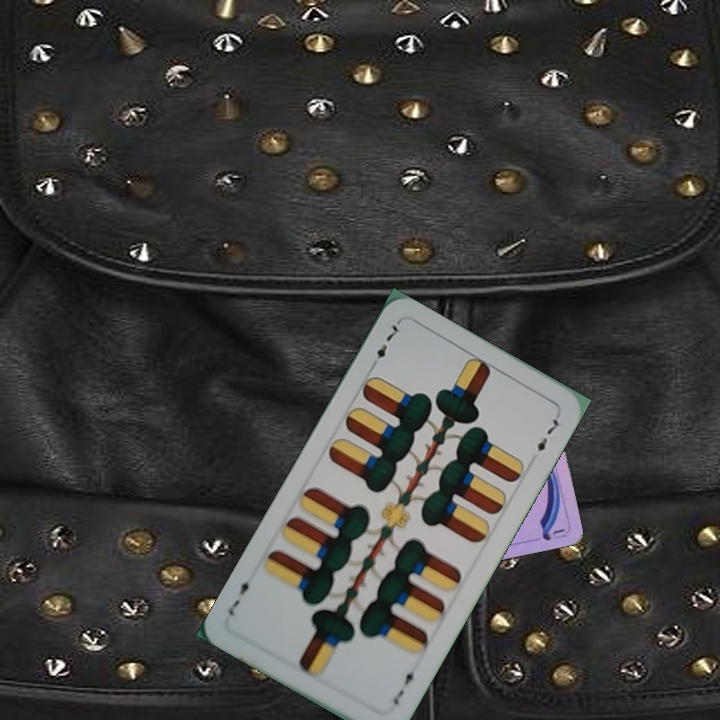E7: (366, 318, 402, 372), (388, 663, 420, 708)
